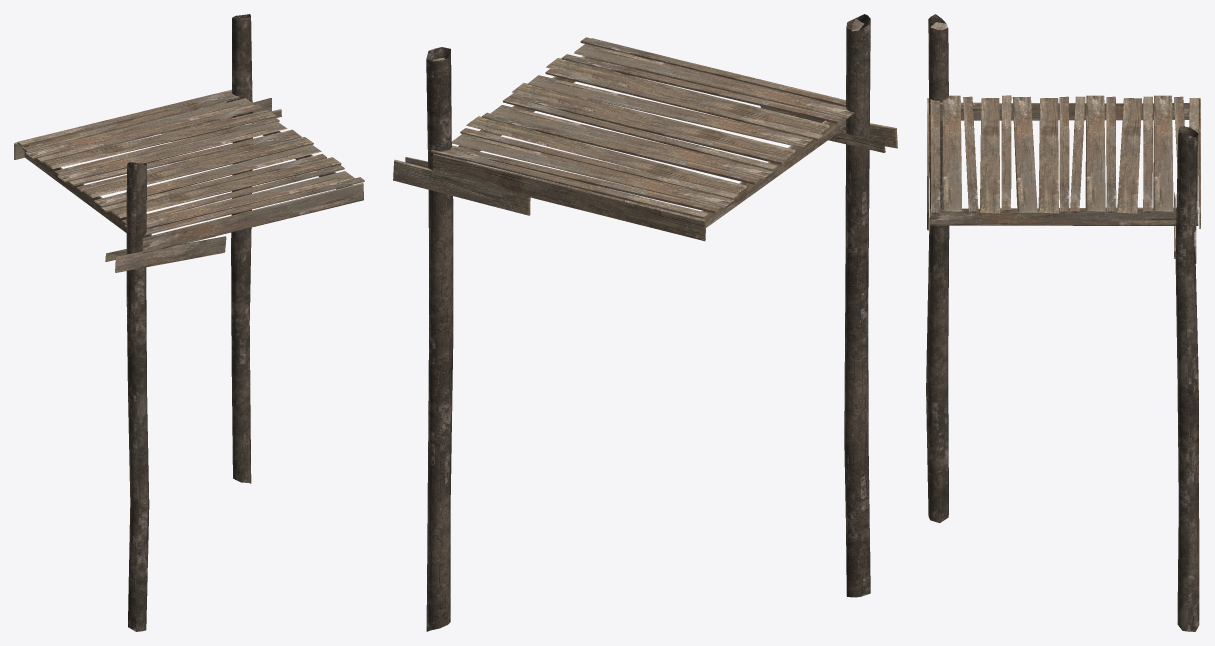
File: SM_Gangway_07.fbx
3 renders of one model, left to right at view 1: azimuth 30°, elevation 25°; view 2: azimuth 150°, elevation 25°; view 3: azimuth 270°, elevation 25°, orthographic. The views are drawn at different scales.
Parts seen in each view (by area): view 1: SM_Gangway_07_LOD0; view 2: SM_Gangway_07_LOD0; view 3: SM_Gangway_07_LOD0.
Part boxes in pixels (x1,y1,x2,y2): SM_Gangway_07_LOD0: (14, 14, 364, 631); SM_Gangway_07_LOD0: (393, 14, 897, 631); SM_Gangway_07_LOD0: (926, 14, 1200, 631).
Size of the model in its own units: 510 by 405 by 820.
